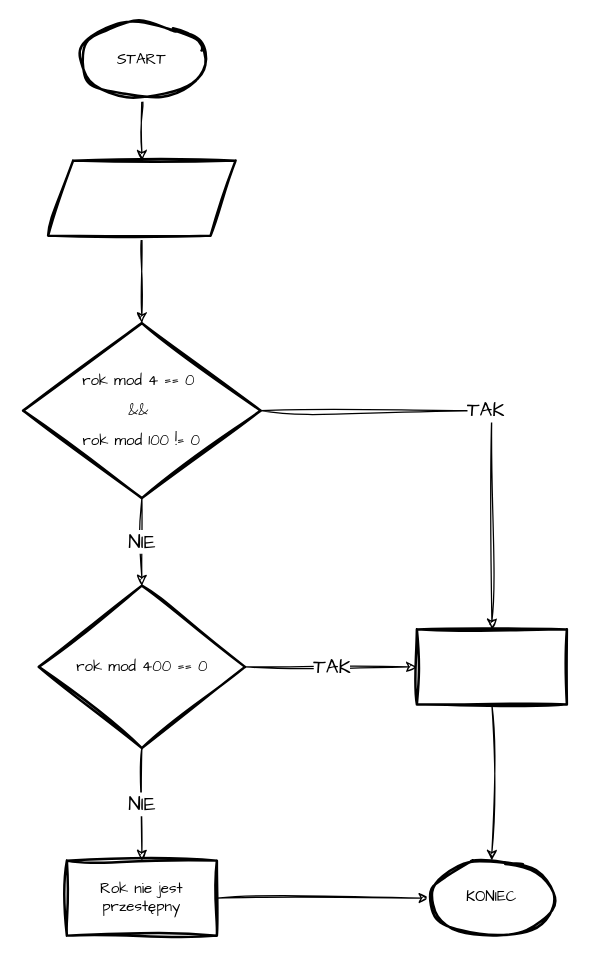
Some shapes in this 589 by 958 pixel diagram are drawn without their labels. The shapes that lost their labels are listed below. From the top down, each one's centre as x and y in pixels, then its label:
At point (141, 197): "Wprowadź (rok)".
At point (491, 666): "Rok jest przestępny".
